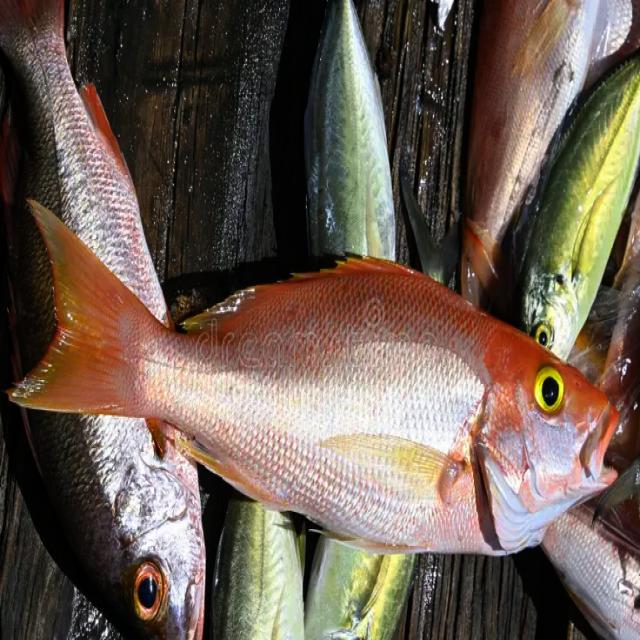Red Snapper: (9, 200, 620, 557)
